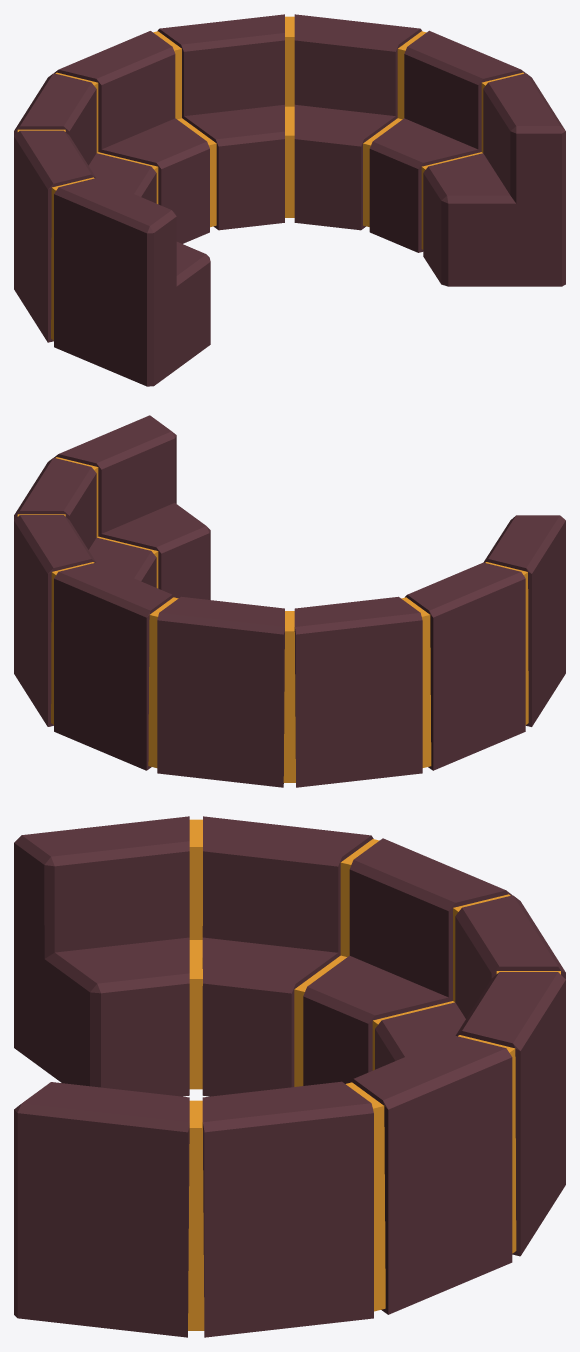
File: scifi-sofa-round.fbx
3 renders of one model, top to bottom at view 1: azimuth 30°, elevation 25°; view 2: azimuth 150°, elevation 25°; view 3: azimuth 270°, elevation 25°, orthographic. The views are drawn at different scales.
Parts seen in each view (by area): view 1: scifi-sofa-round; view 2: scifi-sofa-round; view 3: scifi-sofa-round.
Part boxes in pixels (box(x1,y1,x2,y2)): scifi-sofa-round: box(14, 14, 565, 386); scifi-sofa-round: box(14, 415, 565, 787); scifi-sofa-round: box(14, 816, 565, 1337).
Size of the model in its own units: 2.98 by 0.9436 by 2.23.
